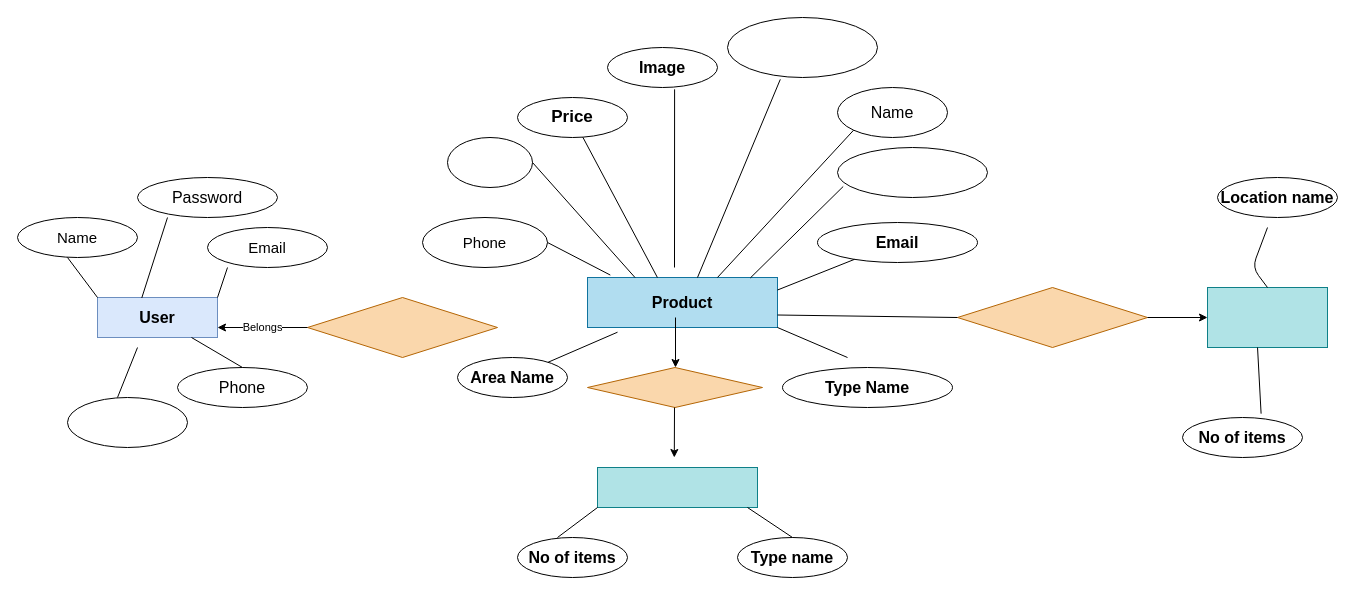
The diagram is 1355 pixels wide and 595 high, and some of its shapes have lost their labels. The centre of each missing label's shape, as x and y in pixels:
"Belongs to" goes at (x=402, y=327).
"Date" goes at (x=489, y=162).
"Description" goes at (x=802, y=47).
"has" goes at (x=674, y=387).
"Is in" goes at (x=1052, y=317).
"Location" goes at (x=1267, y=317).
"Serial No" goes at (x=912, y=172).
"Type" goes at (x=677, y=487).
"UserName" goes at (x=127, y=422).
